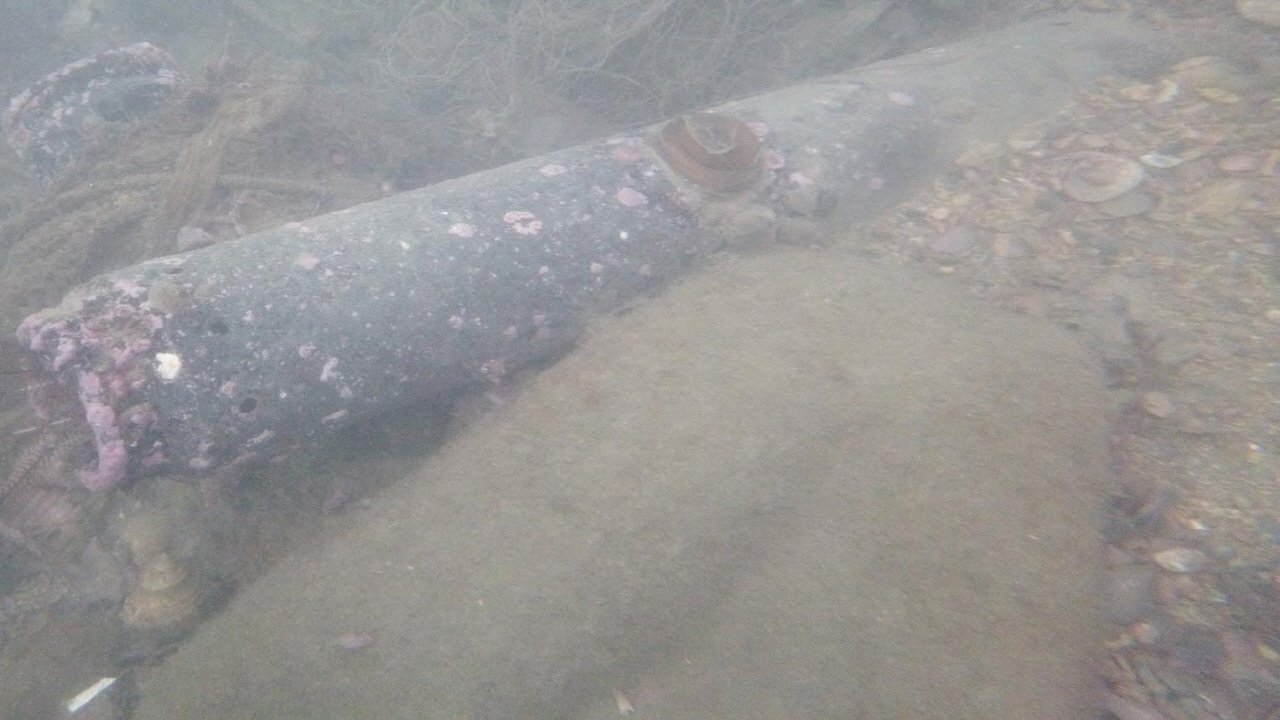eel fish trap: (13, 3, 1173, 492)
